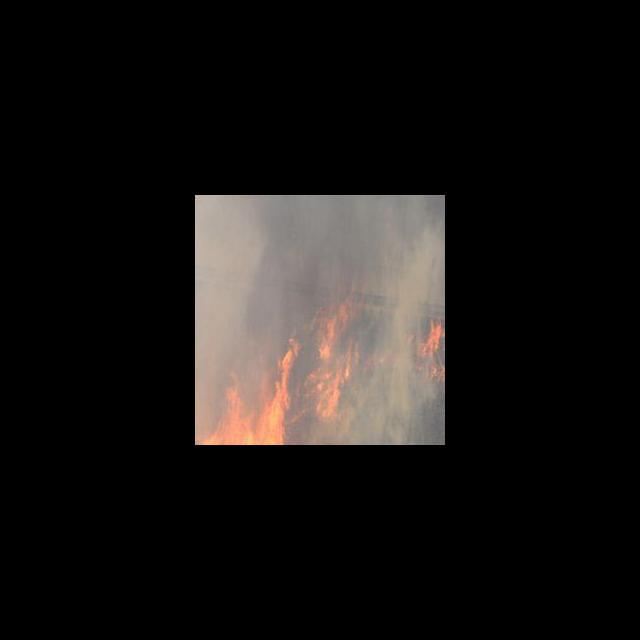Fire: (195, 328, 299, 444), (311, 299, 362, 426), (416, 309, 444, 382)
Smoke: (197, 195, 444, 299), (366, 305, 417, 444)
